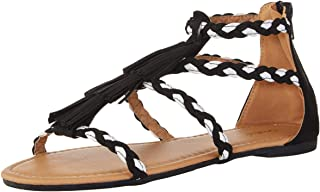shoes: (1, 1, 320, 192)
